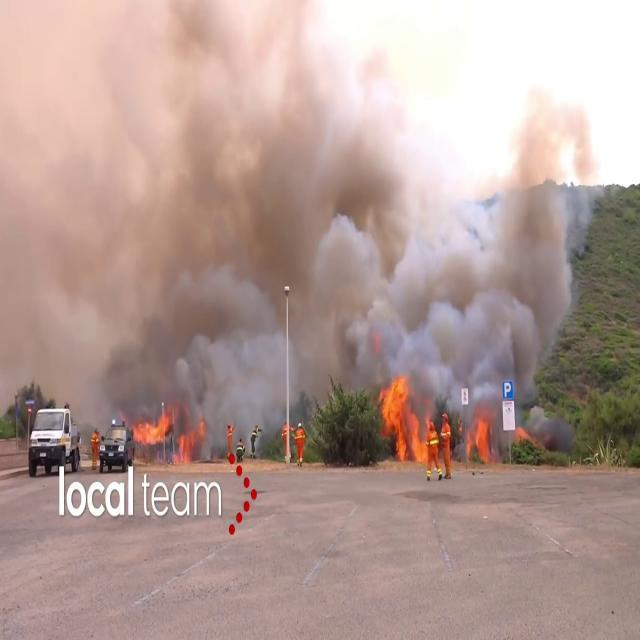Fire: (378, 371, 450, 473), (132, 405, 206, 469)
Smoke: (1, 0, 602, 412)
